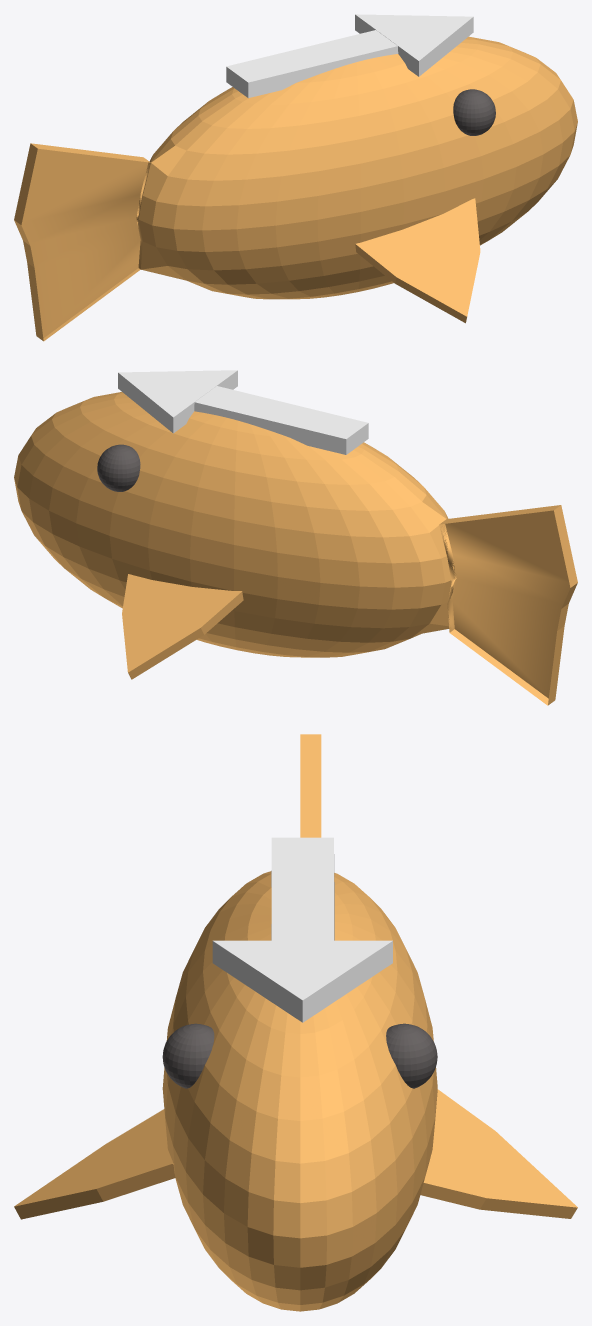
The model's file is MidFishOrange.fbx.
3 renders of one model, top to bottom at view 1: azimuth 30°, elevation 25°; view 2: azimuth 150°, elevation 25°; view 3: azimuth 270°, elevation 25°, orthographic. The views are drawn at different scales.
Visible parts, largest first — view 1: Сфера.004; view 2: Сфера.004; view 3: Сфера.004.
Part boxes in pixels (x1,y1,x2,y2): Сфера.004: (14, 14, 577, 341); Сфера.004: (14, 370, 577, 705); Сфера.004: (14, 734, 577, 1311).
Size of the model in its own units: 508 by 209 by 318.
